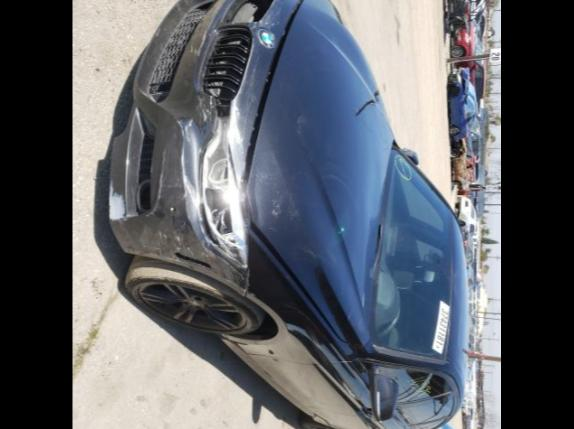Broken part: (240, 0, 350, 342), (210, 244, 252, 298), (202, 96, 234, 140)
Missing part: (230, 0, 274, 24)
Paint chip: (108, 176, 128, 220)
Scratch: (128, 230, 246, 292), (144, 122, 186, 216), (288, 172, 310, 220), (252, 0, 283, 30), (244, 52, 260, 110), (188, 30, 208, 56), (196, 94, 212, 122), (177, 118, 192, 142), (296, 116, 308, 134), (270, 200, 282, 216), (304, 248, 318, 260), (156, 26, 162, 36)
